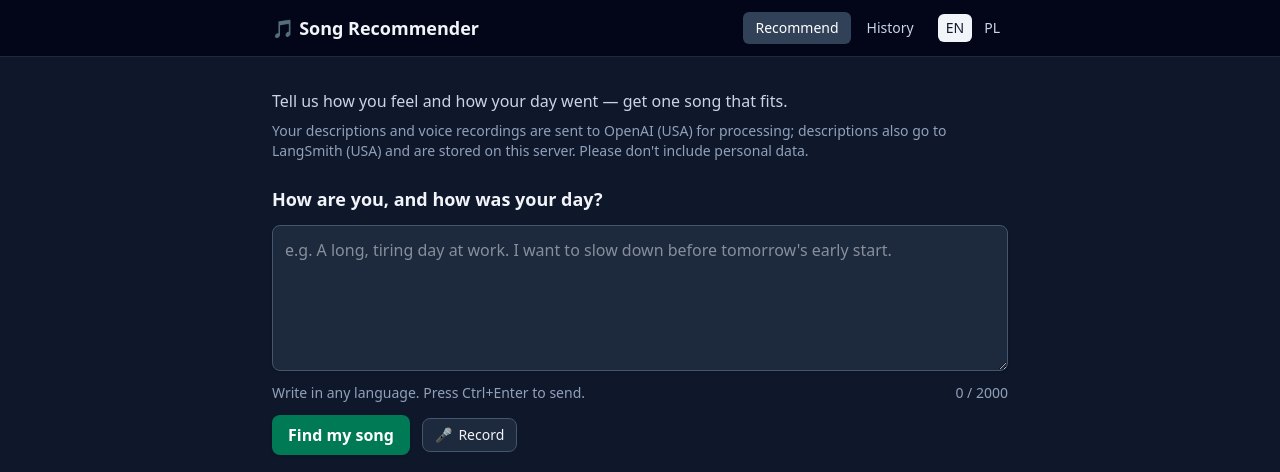
Test: voice input › works in Polish
Click the button with aria-label "Polski": x=992, y=28 [976,14,1008,42]
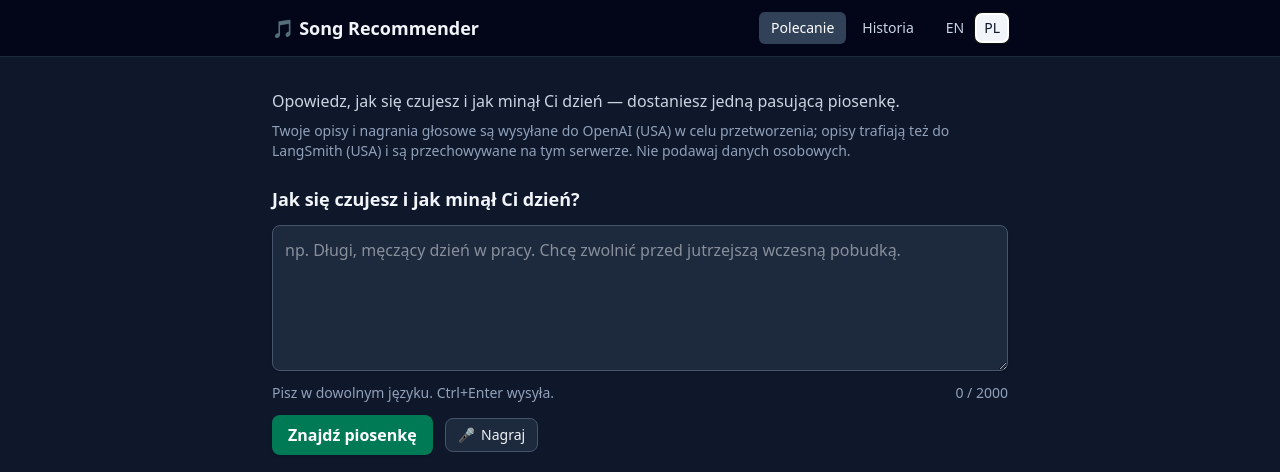
Click the button "🎤 Nagraj": x=491, y=435 [445,418,538,452]
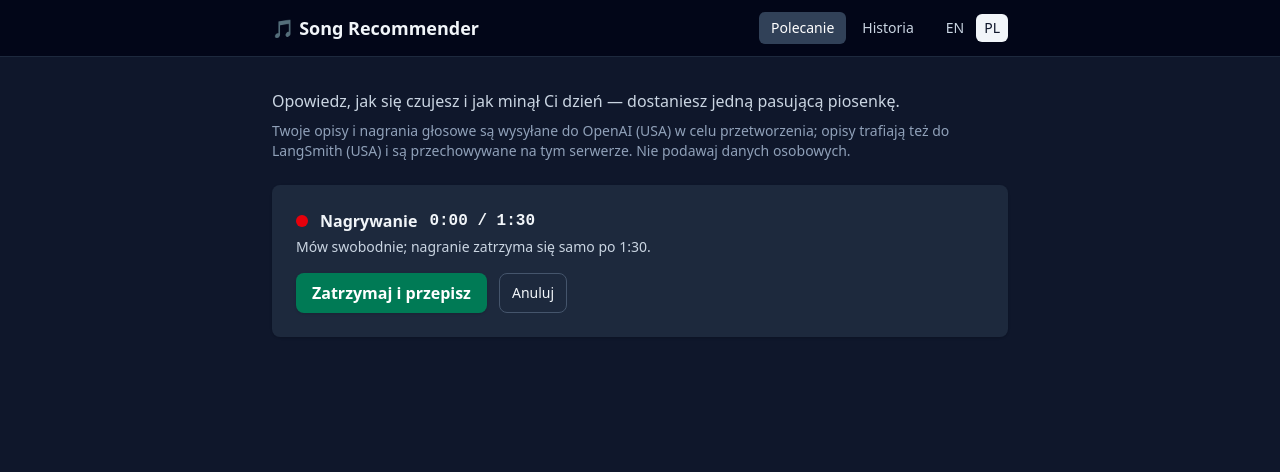
Now the text "Nagrywanie" is shown, box [320,209,417,233]
Click the button "Zatrzymaj i przepisz": x=391, y=293 [296,273,487,313]
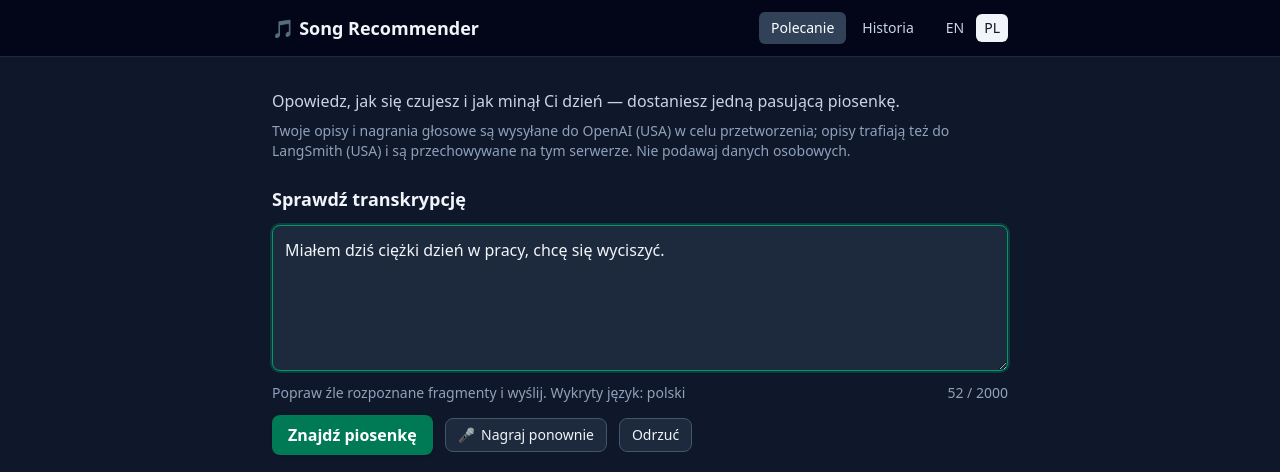
Now the text box labelled "Sprawdź transkrypcję" holds "Miałem dziś ciężki dzień w pracy, chcę się wyciszyć.", box [272,225,1008,371]
Now the text "Wykryty język: polski" is shown, box [550,383,685,402]
